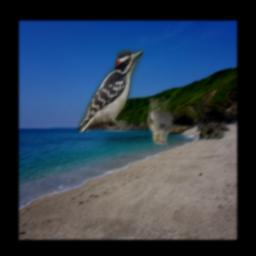Sparrow: (148, 98, 174, 146)
Woodpecker: (79, 50, 144, 133)
